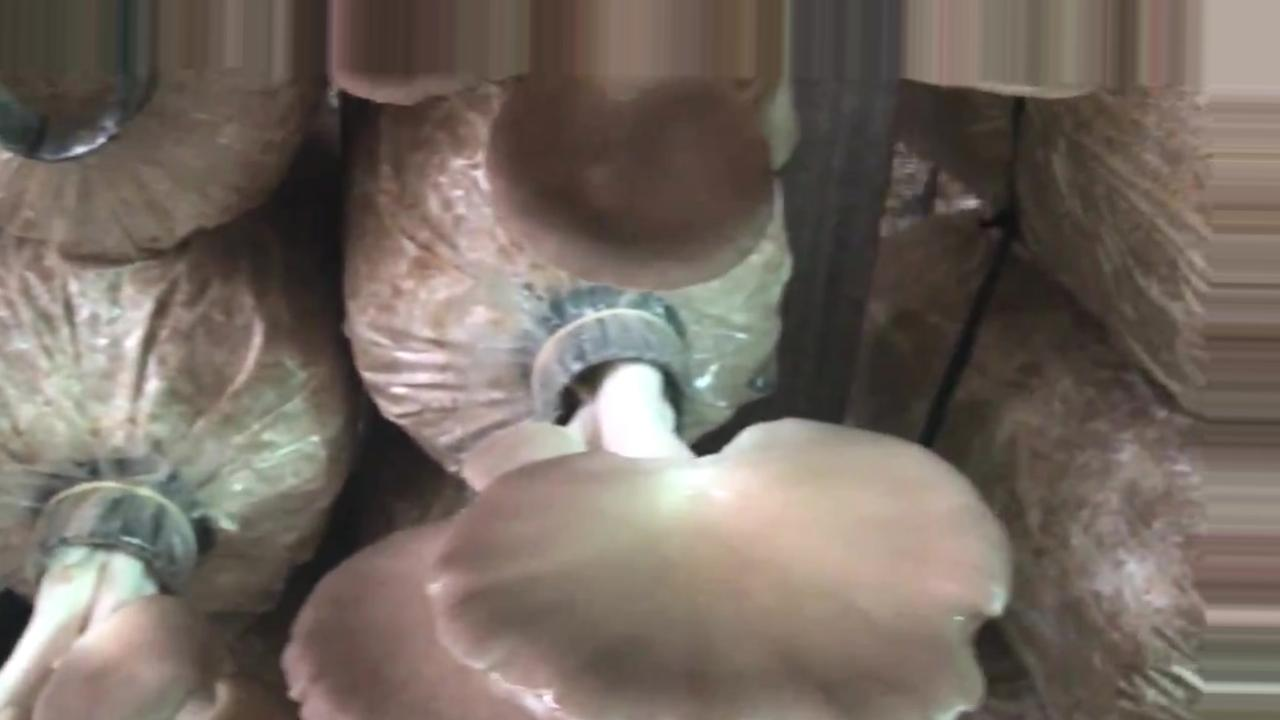nam: (420, 303, 1016, 720), (1, 473, 271, 720), (485, 80, 778, 299), (275, 517, 559, 720)
